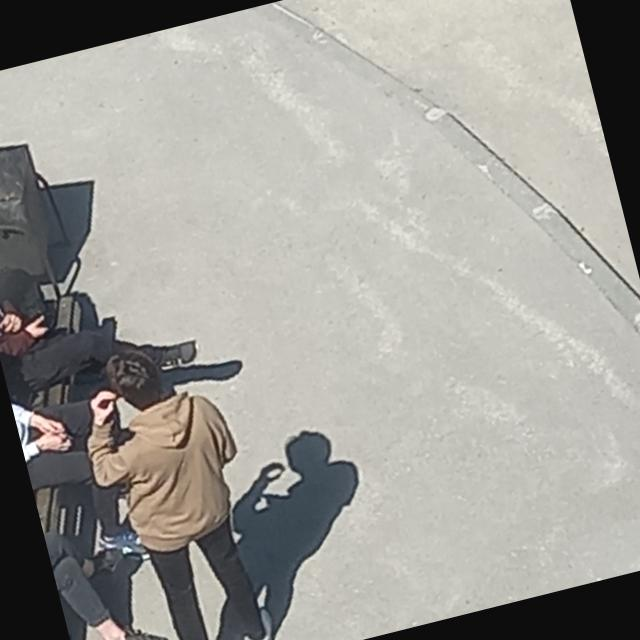person: (65, 327, 288, 640), (0, 240, 202, 409), (10, 378, 147, 579), (43, 508, 171, 640)
